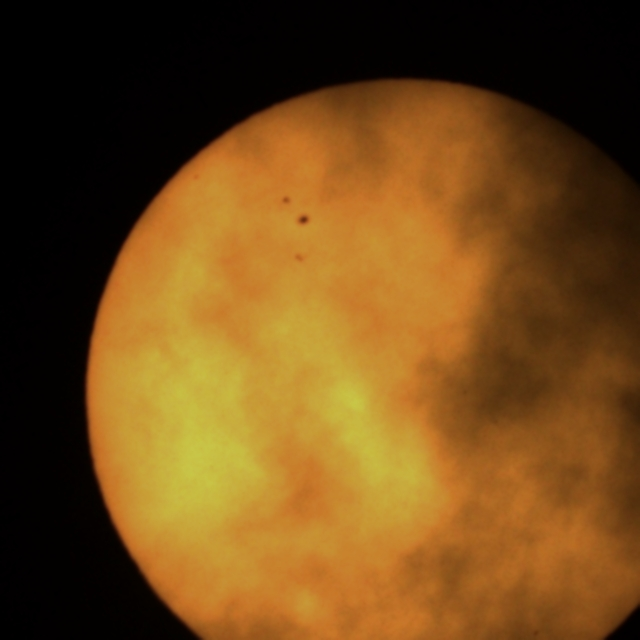sunspot: (295, 212, 312, 228), (293, 252, 306, 265), (190, 169, 202, 182), (280, 195, 292, 206), (532, 629, 540, 639)
